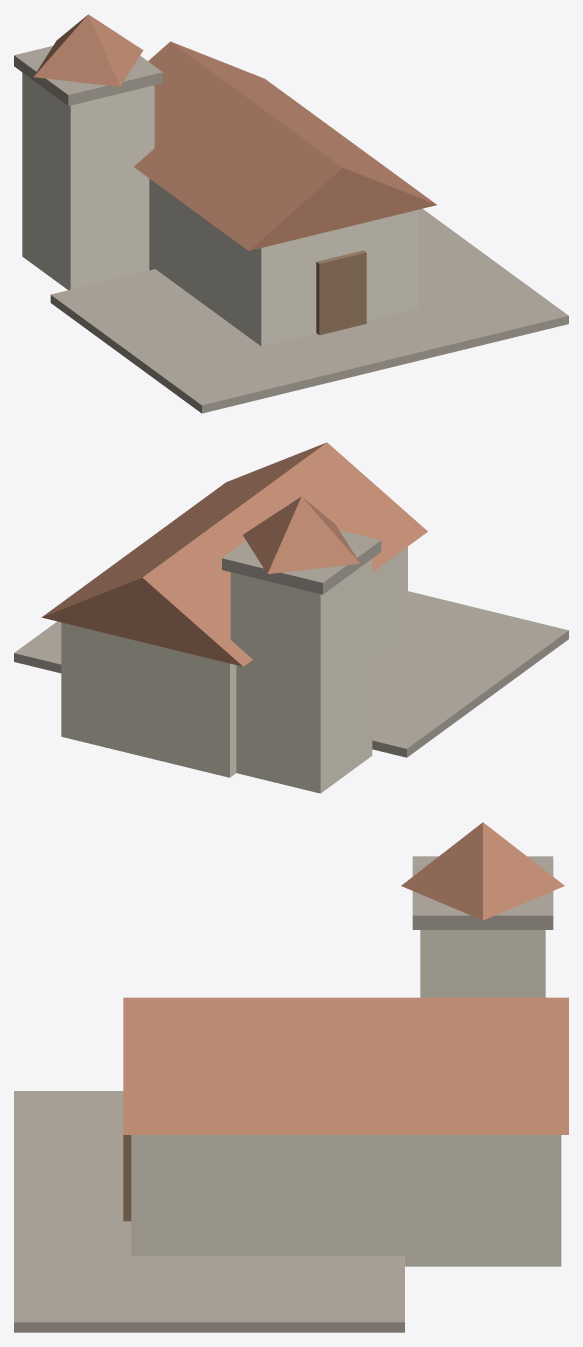
The model's file is colonial_church_lod1.glb.
The picture shows the model from 3 angles, top to bottom: view 1: azimuth 30°, elevation 25°; view 2: azimuth 150°, elevation 25°; view 3: azimuth 270°, elevation 25°; orthographic projection. The views are drawn at different scales.
Visible parts, largest first — view 1: colonial_church; view 2: colonial_church; view 3: colonial_church.
Part boxes in pixels (bbox=[...]): colonial_church: bbox=[14, 14, 568, 413]; colonial_church: bbox=[14, 442, 568, 793]; colonial_church: bbox=[14, 822, 568, 1332].
Size of the model in its own units: 14 by 9.1 by 14.2.
